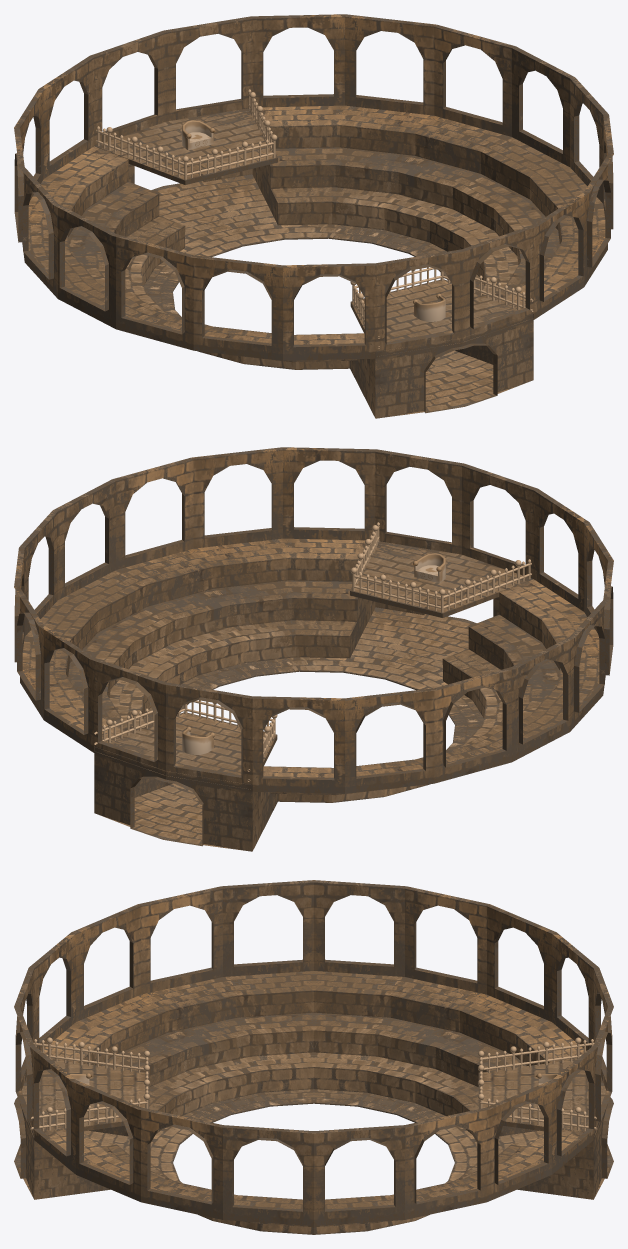
File: Colosseumstands2.fbx
3 renders of one model, top to bottom at view 1: azimuth 30°, elevation 25°; view 2: azimuth 150°, elevation 25°; view 3: azimuth 270°, elevation 25°, orthographic.
Parts seen in each view (by area): view 1: Colosseum, Duck lord platform -Y, fence, Throne.001; view 2: Colosseum, Duck lord platform -Y, fence, Throne.001; view 3: Colosseum, Duck lord platform -Y, fence.
Boxes of the visible parts, x1=… form: Colosseum: x1=14, y1=14, x2=613, y2=418; Duck lord platform -Y: x1=95, y1=108, x2=533, y2=356; fence: x1=96, y1=89, x2=533, y2=348; Throne.001: x1=182, y1=120, x2=445, y2=321; Colosseum: x1=14, y1=447, x2=613, y2=851; Duck lord platform -Y: x1=94, y1=541, x2=532, y2=789; fence: x1=94, y1=522, x2=531, y2=781; Throne.001: x1=182, y1=553, x2=445, y2=754; Colosseum: x1=14, y1=880, x2=613, y2=1234; Duck lord platform -Y: x1=21, y1=1059, x2=606, y2=1137; fence: x1=31, y1=1037, x2=596, y2=1131.
Size of the model in its own units: 5169 by 1488 by 5169.
Materials: 1 (1 with a texture image).
